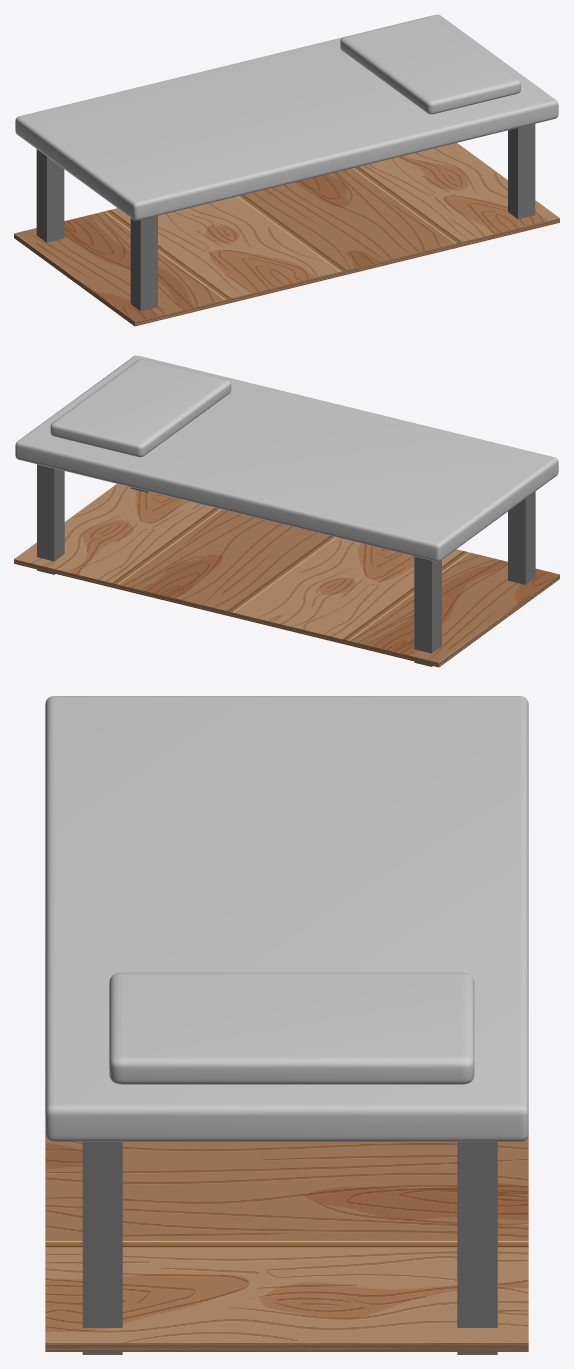
Rendered from table.obj.
3 views of the same model, one above another, from view 1: azimuth 30°, elevation 25°; view 2: azimuth 150°, elevation 25°; view 3: azimuth 270°, elevation 25° (orthographic). The views are drawn at different scales.
Visible parts, largest first — view 1: Box024; view 2: Box024; view 3: Box024.
Part boxes in pixels (x1=…): Box024: x1=14, y1=14, x2=559, y2=326; Box024: x1=14, y1=355, x2=559, y2=667; Box024: x1=45, y1=696, x2=528, y2=1354.
Size of the model in its own units: 0.3949 by 0.128 by 0.1944.
